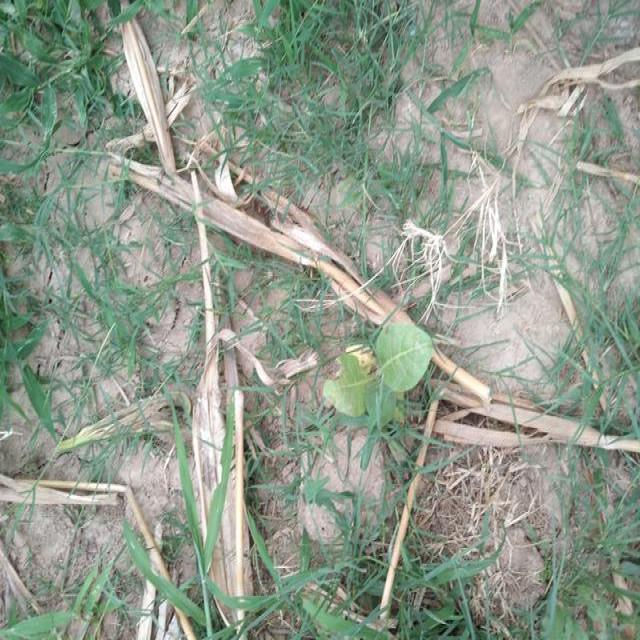crop: (322, 302, 437, 428)
